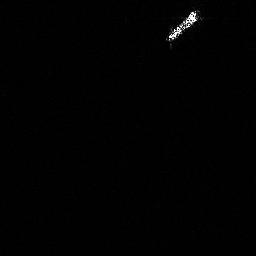ship: (164, 9, 200, 43)
